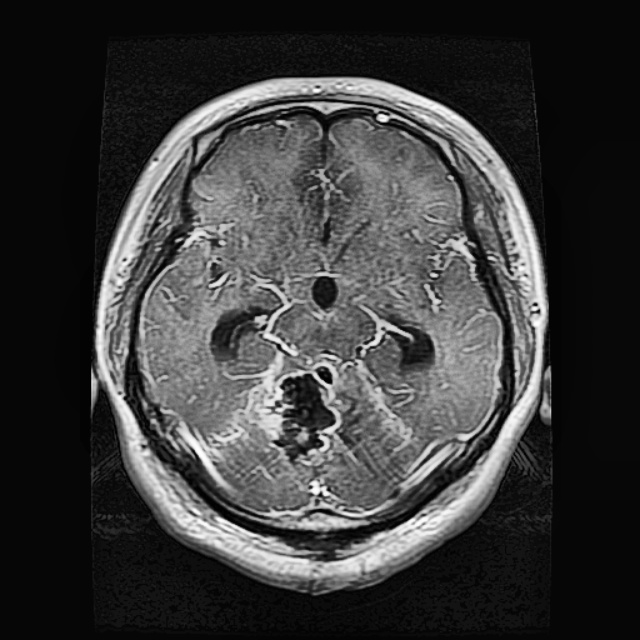Glioma: (240, 357, 345, 464)
